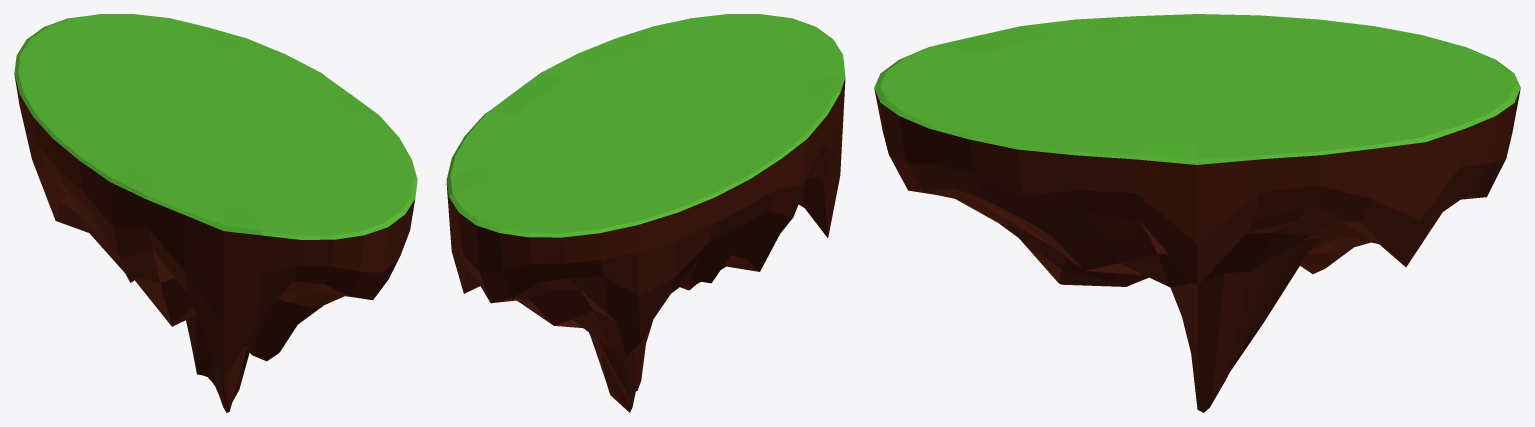
Rendered from Island.fbx.
3 views of the same model, side by side, from view 1: azimuth 30°, elevation 25°; view 2: azimuth 150°, elevation 25°; view 3: azimuth 270°, elevation 25° (orthographic). The views are drawn at different scales.
Visible parts, largest first — view 1: Island; view 2: Island; view 3: Island.
Part boxes in pixels (box(x1,y1,x2,y2)): Island: box(14, 14, 417, 412); Island: box(446, 14, 845, 412); Island: box(874, 14, 1520, 412).
Size of the model in its own units: 2673 by 2736 by 5007.
